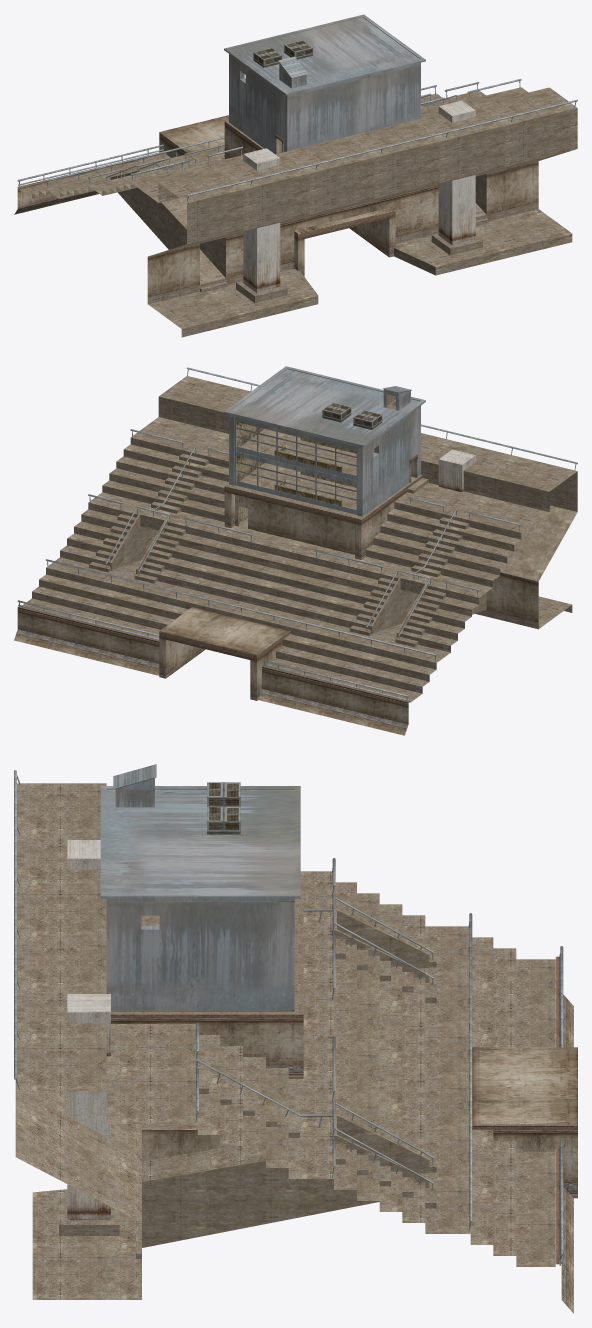
File: StadiumE.glb
3 views of the same model, one above another, from view 1: azimuth 30°, elevation 25°; view 2: azimuth 150°, elevation 25°; view 3: azimuth 270°, elevation 25° (orthographic). The views are drawn at different scales.
Visible parts, largest first — view 1: _StadiumE; view 2: _StadiumE; view 3: _StadiumE.
Boxes of the visible parts, x1=… form: _StadiumE: x1=14, y1=14, x2=577, y2=337; _StadiumE: x1=14, y1=366, x2=577, y2=735; _StadiumE: x1=14, y1=764, x2=577, y2=1313.
Bounding box in the file's own units: 60 × 31.67 × 46.47.
Materials: 5 (5 with a texture image).
